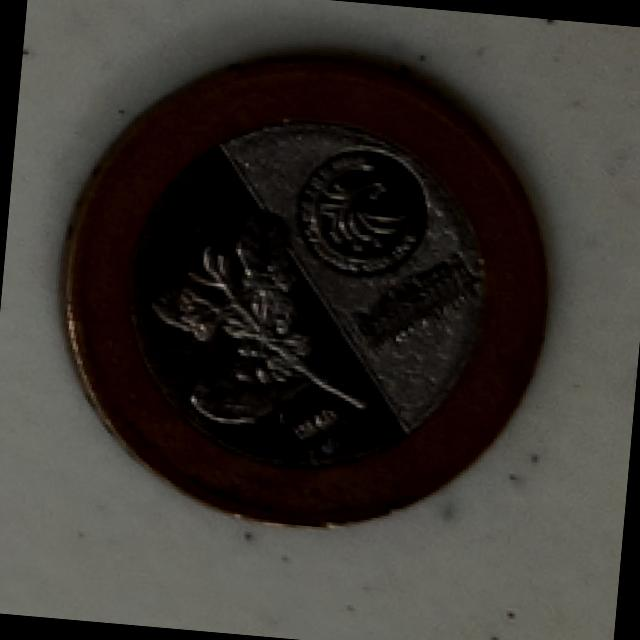20_peso: (65, 61, 544, 520)
